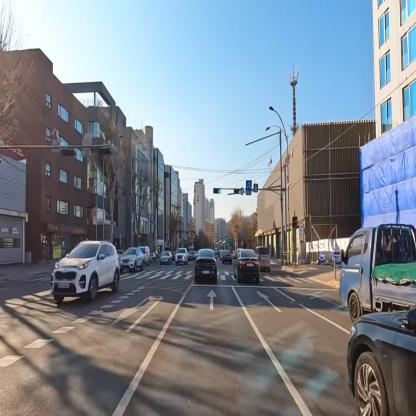Green: (233, 187, 242, 195), (212, 187, 222, 194)
